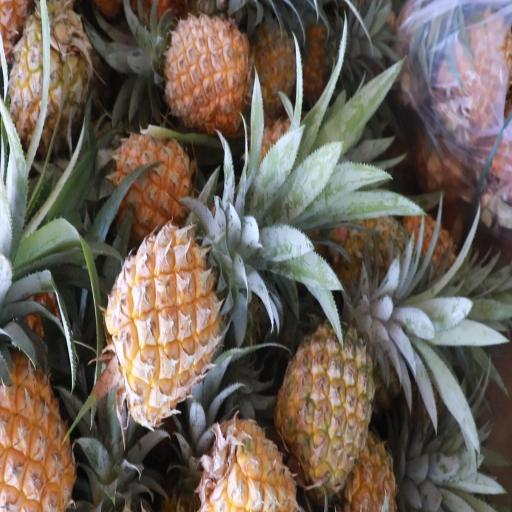------------------------------: (280, 324, 372, 483), (8, 12, 89, 154)
Pineapple - v8 v1: (109, 228, 223, 411), (0, 333, 73, 512), (196, 412, 295, 512), (163, 16, 249, 128), (112, 124, 193, 232)
